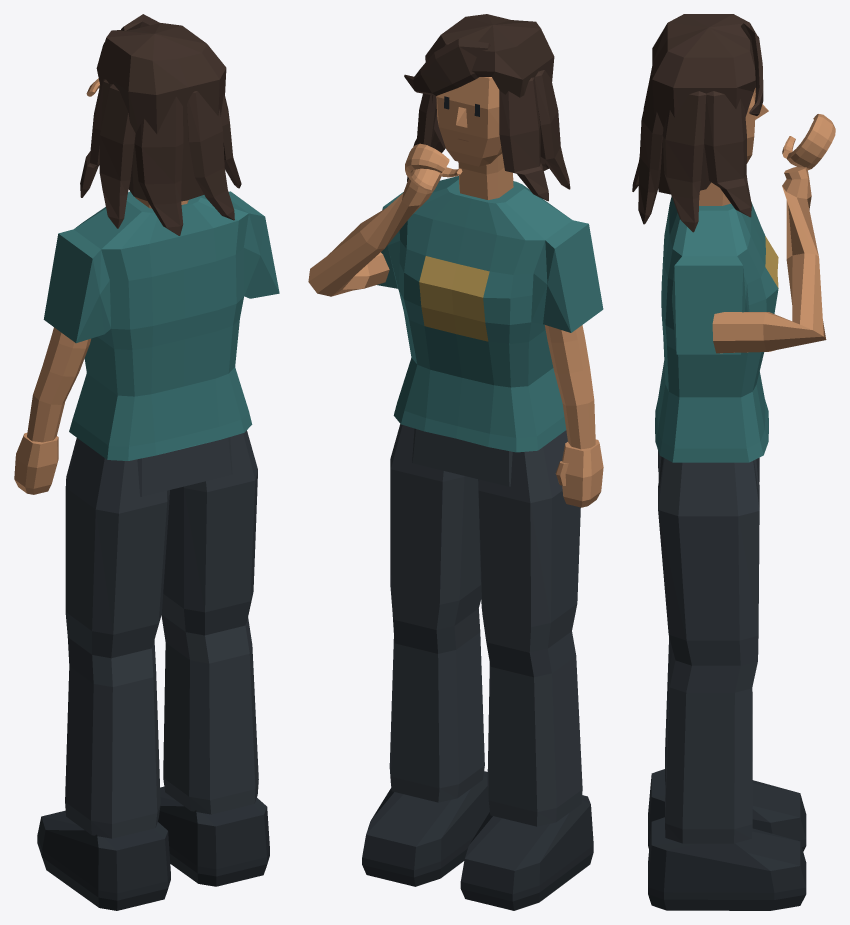
Rendered from lwf_attendee_female_drinking_beer_v1.glb.
3 renders of one model, left to right at view 1: azimuth 30°, elevation 25°; view 2: azimuth 150°, elevation 25°; view 3: azimuth 270°, elevation 25°, orthographic.
Visible parts, largest first — view 1: Attendee_female_drinking; view 2: Attendee_female_drinking; view 3: Attendee_female_drinking.
Boxes of the visible parts, x1=… form: Attendee_female_drinking: x1=14, y1=14, x2=279, y2=910; Attendee_female_drinking: x1=308, y1=14, x2=603, y2=910; Attendee_female_drinking: x1=632, y1=14, x2=835, y2=910.
Size of the model in its own units: 0.5464 by 1.75 by 0.385.
Materials: 1 (1 with a texture image).
